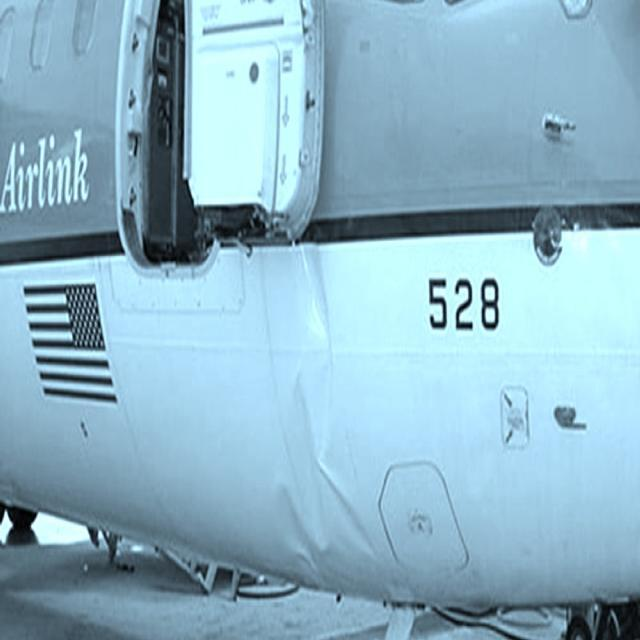dent: (270, 251, 375, 585)
